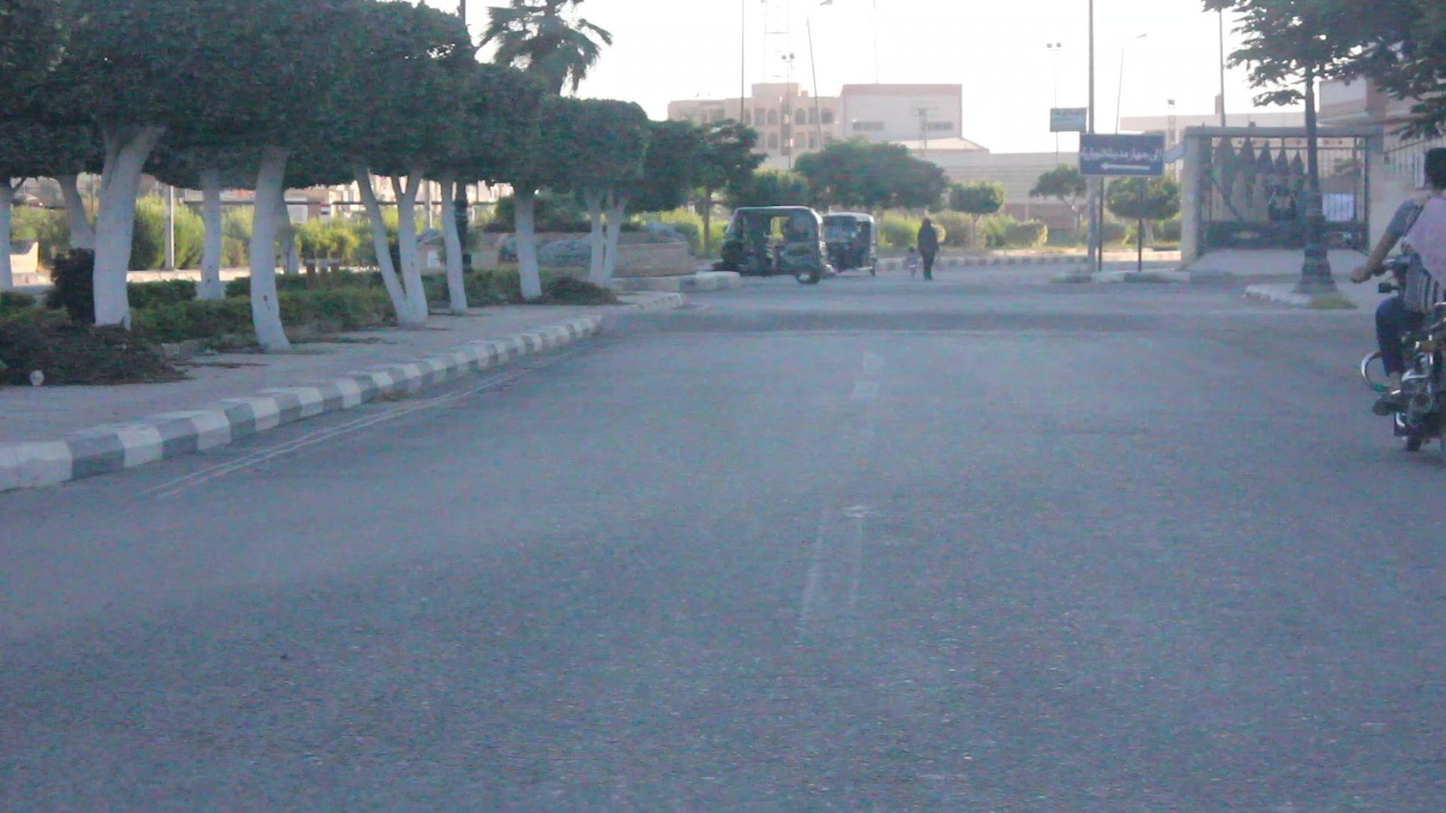Bump: (633, 309, 1314, 358)
